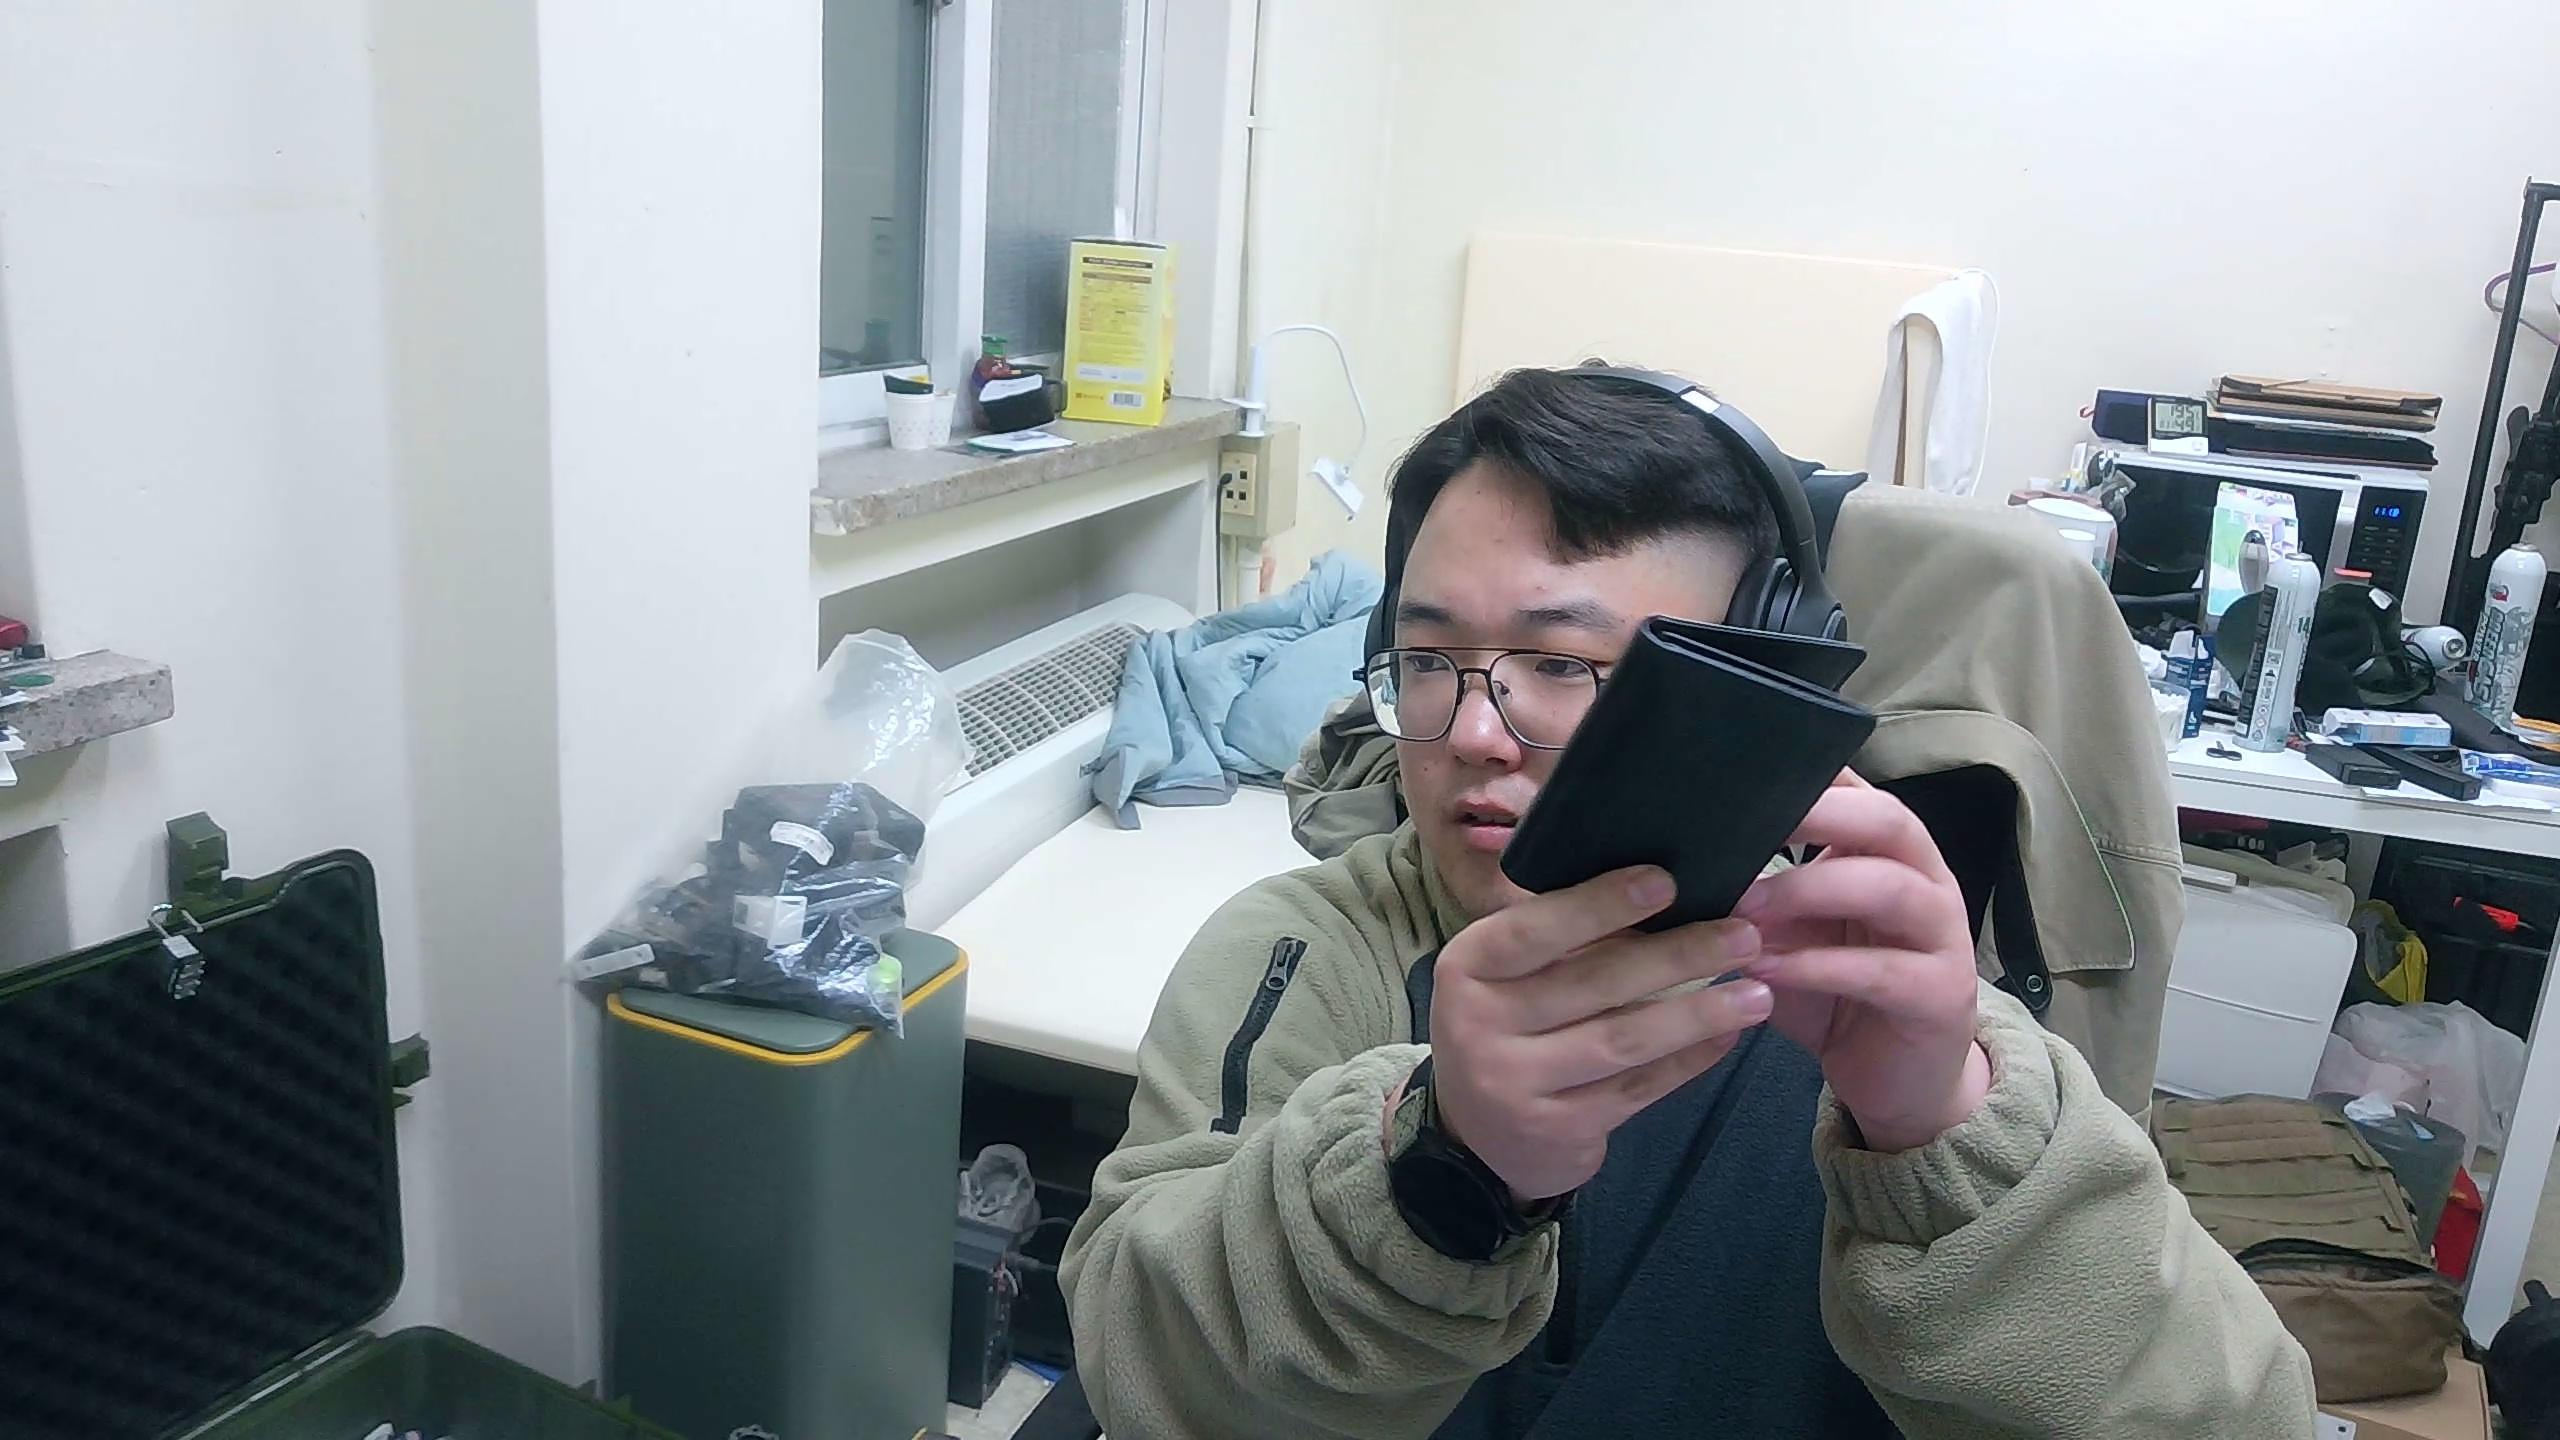earphone: (1502, 612, 1883, 939)
